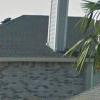Chimney: (44, 3, 75, 55)
